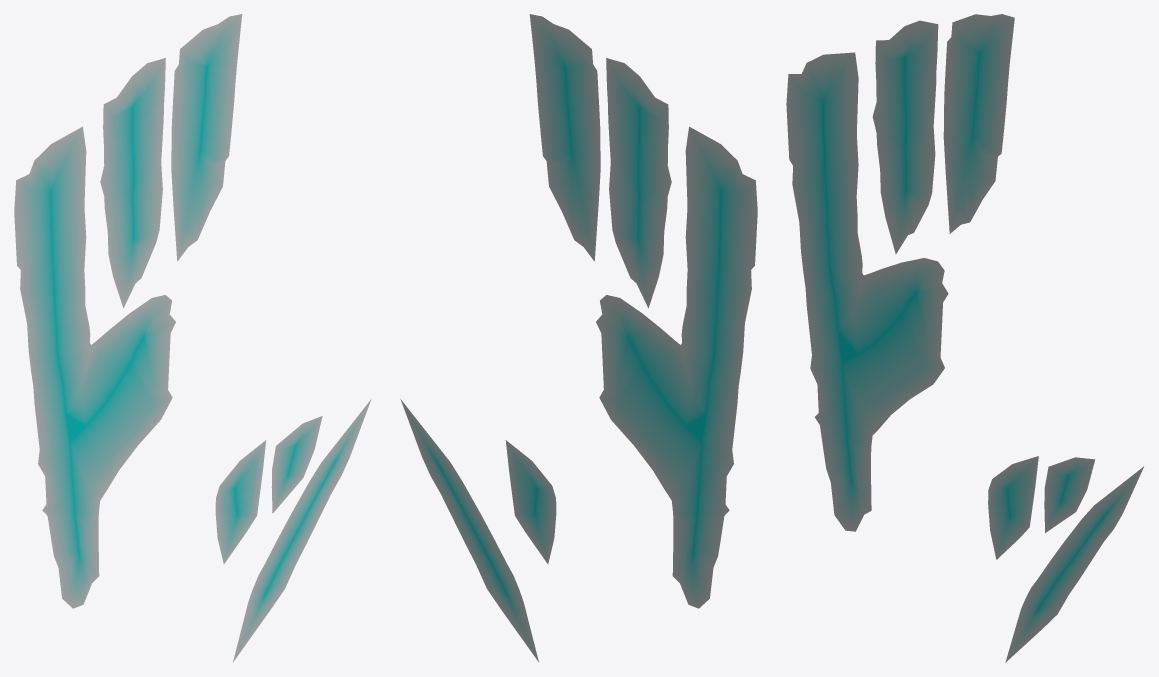
The model's file is SM_EFF_Text_D71NJ1_01.glb.
The picture shows the model from 3 angles, left to right: view 1: azimuth 30°, elevation 25°; view 2: azimuth 150°, elevation 25°; view 3: azimuth 330°, elevation 25°; orthographic projection.
Visible parts, largest first — view 1: SM_EFF_Text_D71NJ1_01; view 2: SM_EFF_Text_D71NJ1_01; view 3: SM_EFF_Text_D71NJ1_01.
Boxes of the visible parts, x1,y1,x2,y2 form: SM_EFF_Text_D71NJ1_01: (14, 14, 371, 661); SM_EFF_Text_D71NJ1_01: (400, 14, 757, 661); SM_EFF_Text_D71NJ1_01: (786, 14, 1143, 662).
Bounding box in the file's own units: 0.4229 × 0.7315 × 4.48e-17.
